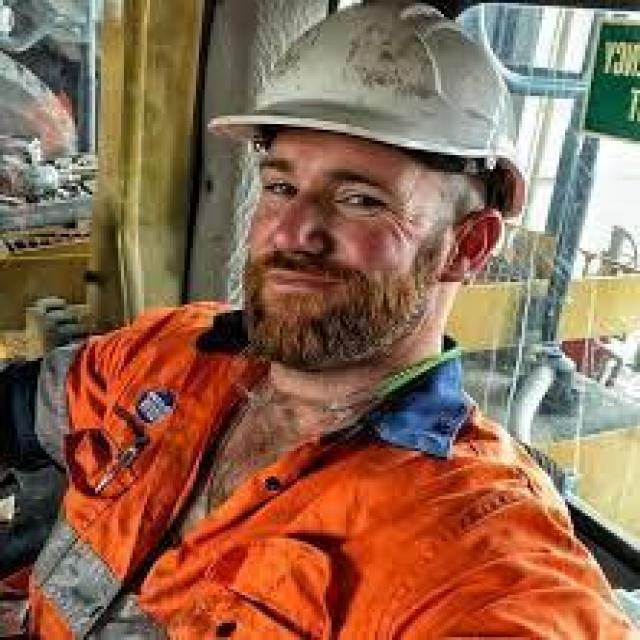hat: (205, 3, 528, 215)
